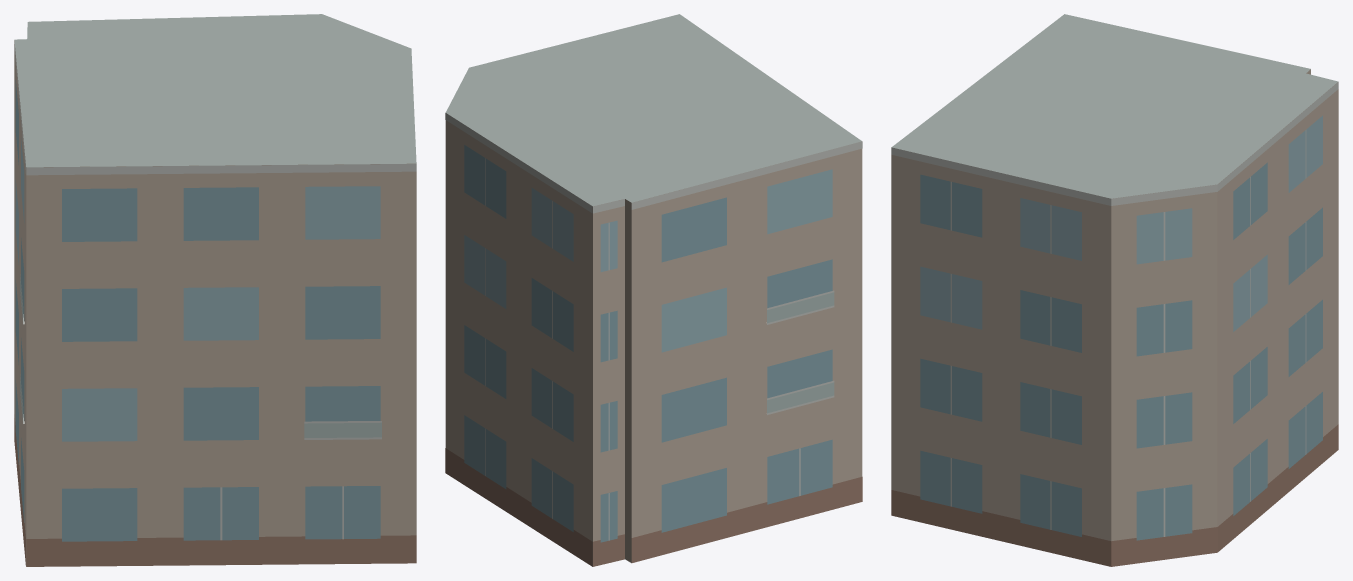
File: survey-upis-32670286.glb
3 renders of one model, left to right at view 1: azimuth 30°, elevation 25°; view 2: azimuth 150°, elevation 25°; view 3: azimuth 270°, elevation 25°, orthographic. The views are drawn at different scales.
Parts seen in each view (by area): view 1: survey-upis-32670286.tmp; view 2: survey-upis-32670286.tmp; view 3: survey-upis-32670286.tmp.
Boxes of the visible parts, x1,y1,x2,y2 form: survey-upis-32670286.tmp: (14,14,416,566); survey-upis-32670286.tmp: (445,14,862,566); survey-upis-32670286.tmp: (891,14,1338,566).
Bounding box in the file's own units: 13.13 × 12.2 × 13.44.
